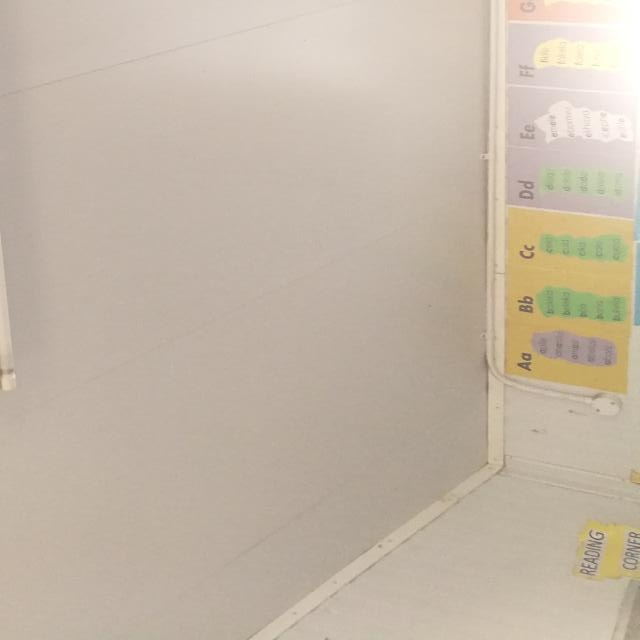fluorescent tube: (0, 0, 83, 427)
